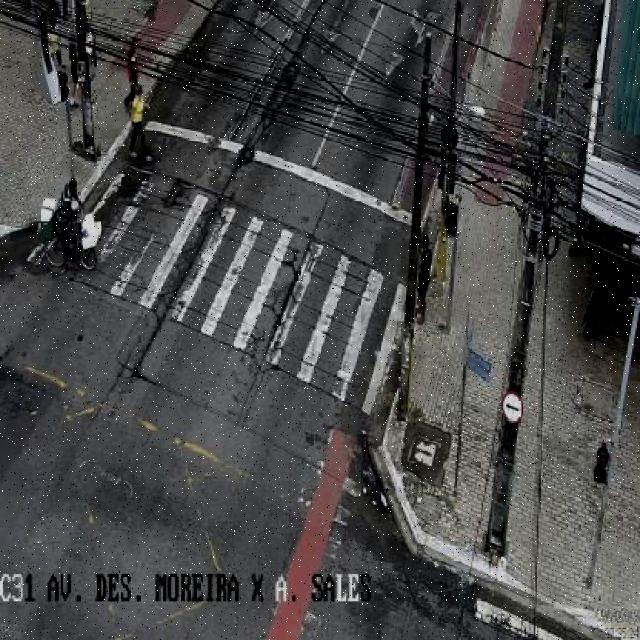bicycle: (39, 178, 101, 272)
motorbike: (128, 84, 154, 161), (414, 233, 434, 324), (68, 36, 90, 110), (124, 36, 141, 109), (46, 18, 62, 86)
